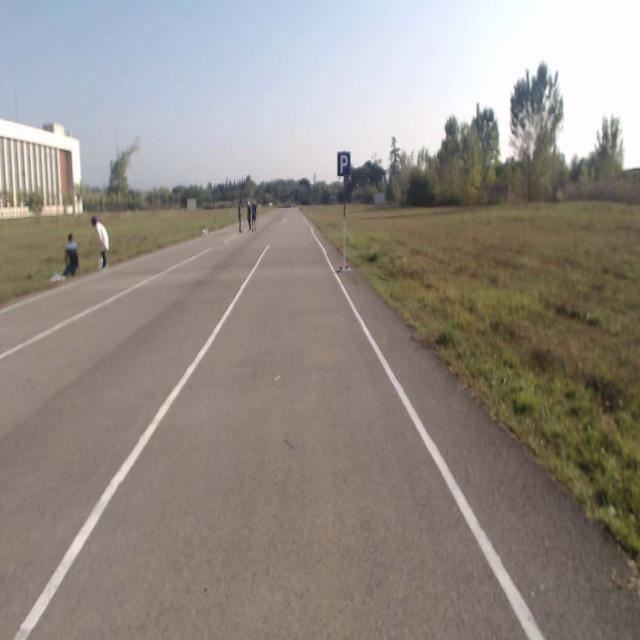park: (338, 151, 350, 175)
